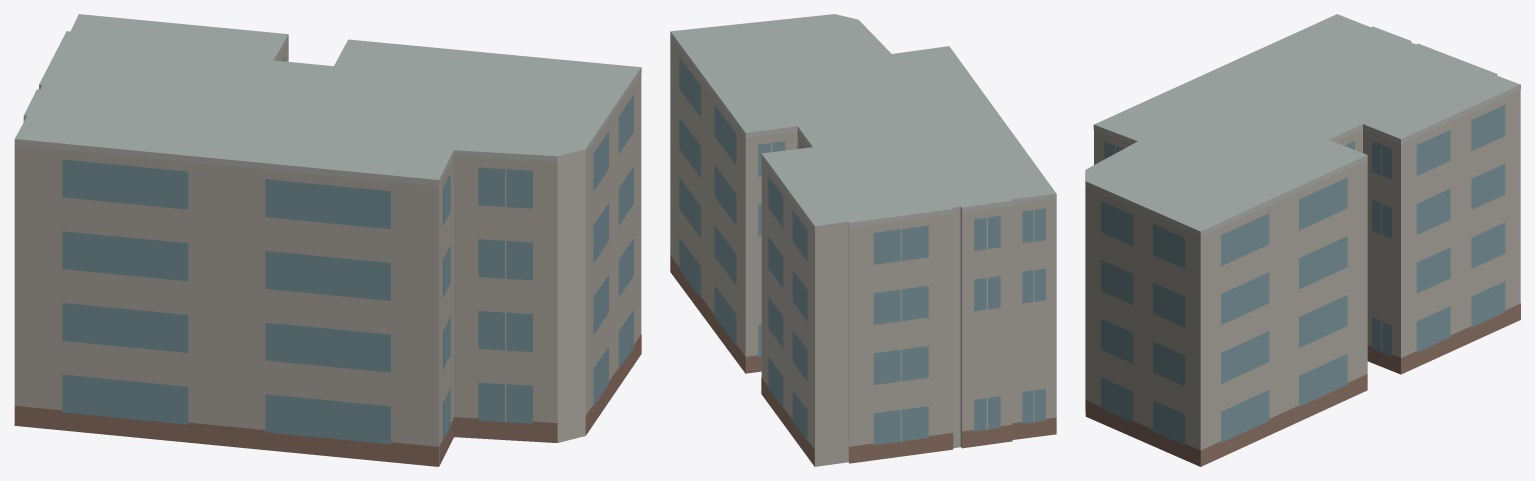
File: survey-upis-32730171.glb
The picture shows the model from 3 angles, left to right: view 1: azimuth 30°, elevation 25°; view 2: azimuth 150°, elevation 25°; view 3: azimuth 270°, elevation 25°; orthographic projection. The views are drawn at different scales.
Parts seen in each view (by area): view 1: survey-upis-32730171.tmp; view 2: survey-upis-32730171.tmp; view 3: survey-upis-32730171.tmp.
Boxes of the visible parts, left/top/right/bottom form: survey-upis-32730171.tmp: left=14, top=14, right=641, bottom=466; survey-upis-32730171.tmp: left=670, top=14, right=1056, bottom=466; survey-upis-32730171.tmp: left=1085, top=14, right=1520, bottom=466.
Size of the model in its own units: 23.01 by 11.6 by 19.47.
